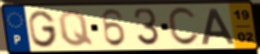3: (132, 7, 161, 48)
6: (100, 7, 128, 48)
A: (200, 8, 237, 46)
C: (166, 6, 201, 48)
G: (27, 9, 60, 49)
Q: (57, 9, 95, 48)
